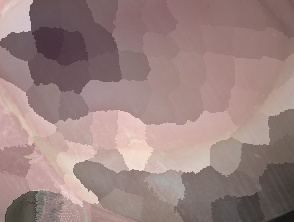Nail_psoriasis: (0, 86, 294, 222)
